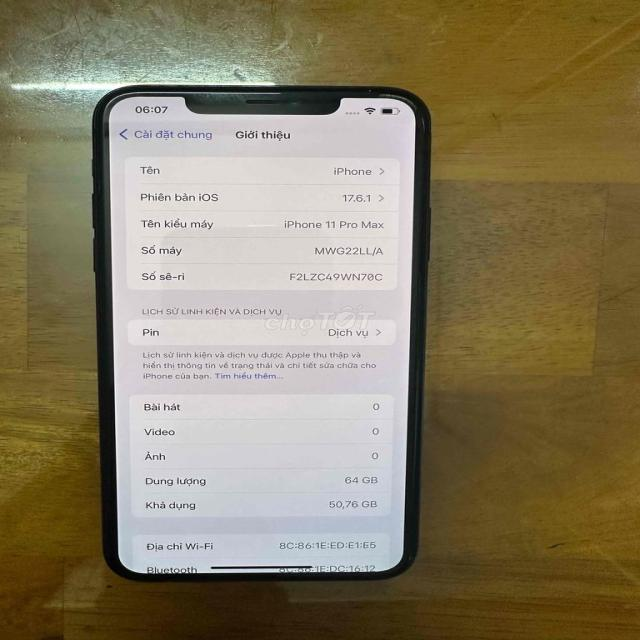gen_11: (80, 75, 439, 588)
